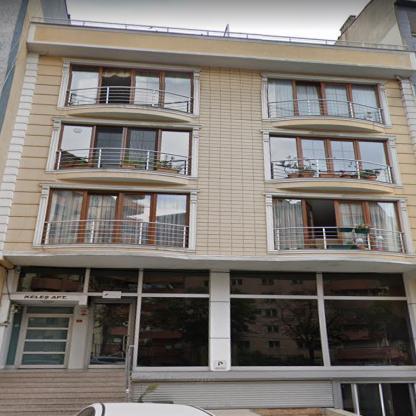door: (7, 305, 74, 366), (85, 302, 133, 367)
window: (232, 298, 413, 366), (43, 189, 188, 246), (276, 198, 403, 252), (57, 123, 191, 174), (66, 62, 192, 112), (269, 78, 383, 123), (136, 298, 209, 368), (270, 136, 391, 178), (18, 268, 210, 294), (232, 271, 405, 296)
